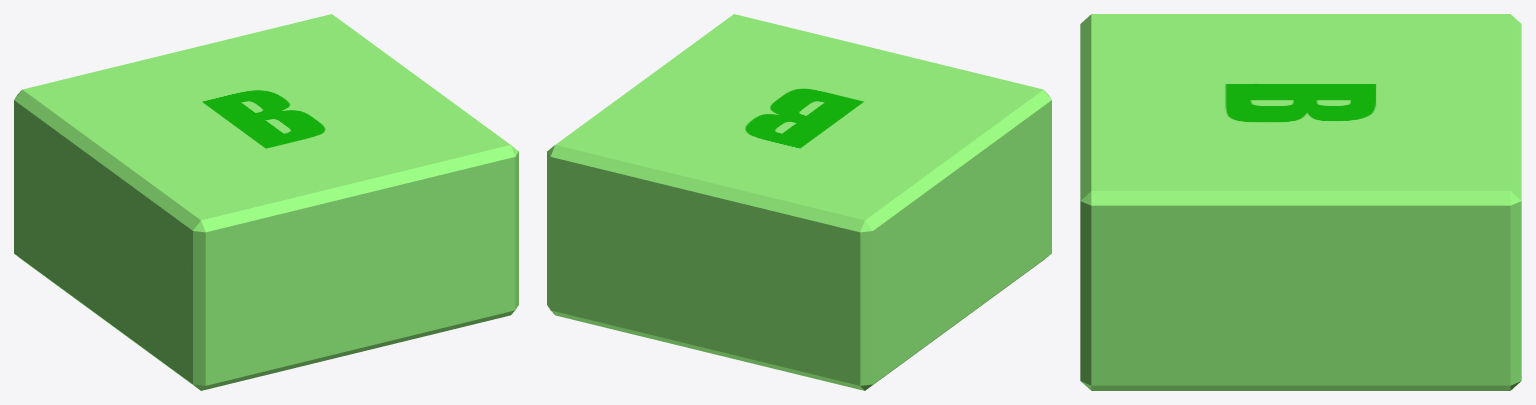
The picture shows the model from 3 angles, left to right: view 1: azimuth 30°, elevation 25°; view 2: azimuth 150°, elevation 25°; view 3: azimuth 270°, elevation 25°; orthographic projection. The views are drawn at different scales.
Visible parts, largest first — view 1: testTile_2_green; view 2: testTile_2_green; view 3: testTile_2_green.
Boxes of the visible parts, x1,y1,x2,y2 form: testTile_2_green: (14, 14, 518, 390); testTile_2_green: (547, 14, 1051, 390); testTile_2_green: (1080, 14, 1521, 390).
Bounding box in the file's own units: 1 × 0.5 × 1.
1 material, 1 textured.
